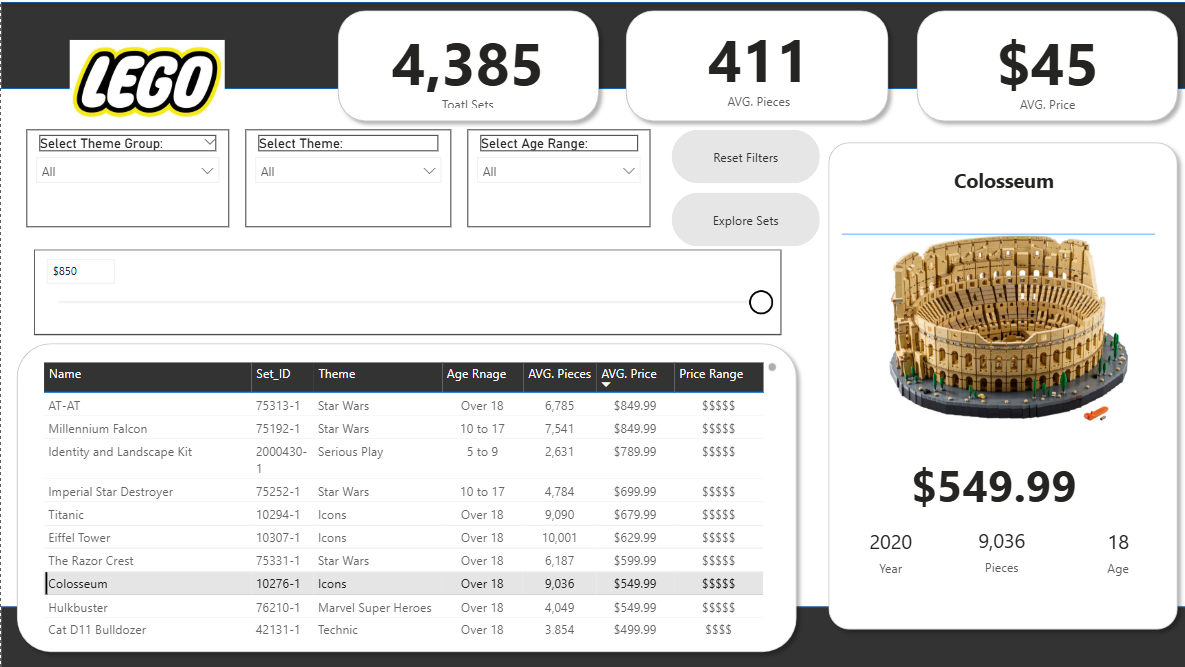

What the dashboard file says about the page in this screenshot:
{"tool":"powerbi","page":{"name":"Page 1","canvas":[1280,720],"ordinal":0},"visuals":[{"type":"shape","box":[0,0,1280,93.8],"z":0},{"type":"shape","box":[0,652.3,1280,67.7],"z":1000},{"type":"shape","box":[354.3,0,299.8,137.8],"z":2000},{"type":"shape","box":[979.7,0,299.8,137.8],"z":3000},{"type":"shape","box":[666.3,0,301.3,137.8],"z":4000},{"type":"card","fields":{"Values":["Measure Table.Toatl Sets"]},"box":[375.5,21.2,255.9,98.4],"z":5000},{"type":"card","fields":{"Values":["Measure Table.AVG. Price"]},"box":[1002.4,18.2,254.4,104.5],"z":6000},{"type":"card","fields":{"Values":["Measure Table.AVG. Pieces"]},"box":[701.1,15.1,233.2,104.5],"z":7000},{"type":"shape","box":[8.1,359.5,859.8,351.4],"z":8000},{"type":"shape","box":[884.1,142.5,395.1,544.1],"z":9000},{"type":"slicer","fields":{"Values":["lego_sets.themeGroup"]},"box":[27.5,137.6,218.6,105.2],"z":10000},{"type":"slicer","fields":{"Values":["lego_sets.Age Rnage"]},"box":[503.6,137.6,197.5,105.2],"z":11000},{"type":"slicer","fields":{"Values":["lego_sets.theme"]},"box":[263.9,137.6,221.8,105.2],"z":12000},{"type":"card","fields":{"Values":["Measure Table.Selected Set"]},"box":[914.9,166.8,335.2,55.1],"z":13000},{"type":"tableEx","fields":{"Values":["lego_sets.imageURL"]},"box":[901.9,221.8,359.5,241.3],"z":14000},{"type":"tableEx","fields":{"Values":["lego_sets.name","lego_sets.set_id","lego_sets.theme","lego_sets.Age Rnage","Measure Table.AVG. Pieces","Measure Table.AVG. Price","lego_sets.Price Range"]},"box":[40.5,383.8,801.5,302.8],"z":15000},{"type":"card","fields":{"Values":["Measure Table.Selected Price"]},"box":[903.2,484.7,336.3,71.1],"z":16000},{"type":"card","fields":{"Values":["Measure Table.Selected Year"]},"box":[901,557.2,119.6,71.2],"z":17000},{"type":"card","fields":{"Values":["Measure Table.Selected Pieces"]},"box":[1020.6,555.7,119.6,71.2],"z":18000},{"type":"card","fields":{"Values":["Measure Table.Selected Age"]},"box":[1149.3,557.2,112.1,71.2],"z":19000},{"type":"slicer","fields":{"Values":["Max Price.Max Price"]},"box":[35.6,267.2,806.4,92.3],"z":20000},{"type":"image","box":[27.3,34.8,260.4,104.5],"z":21000},{"type":"actionButton","box":[723.8,137.6,160.3,58.3],"z":22000},{"type":"actionButton","box":[723.8,205.6,160.3,58.3],"z":23000}]}

Visuals, with their boxes in screenshot pixels (x1, y1, x2, y2), scaled from the page's 1280x720 canvas onto the 1185x667 screenshot:
shape: <bbox>0, 0, 1184, 87</bbox>
shape: <bbox>0, 604, 1184, 666</bbox>
shape: <bbox>328, 0, 606, 128</bbox>
shape: <bbox>907, 0, 1184, 128</bbox>
shape: <bbox>617, 0, 896, 128</bbox>
card - Measure Table.Toatl Sets: <bbox>348, 20, 585, 111</bbox>
card - Measure Table.AVG. Price: <bbox>928, 17, 1164, 114</bbox>
card - Measure Table.AVG. Pieces: <bbox>649, 14, 865, 111</bbox>
shape: <bbox>7, 333, 803, 659</bbox>
shape: <bbox>818, 132, 1184, 636</bbox>
slicer - lego_sets.themeGroup: <bbox>25, 127, 228, 225</bbox>
slicer - lego_sets.Age Rnage: <bbox>466, 127, 649, 225</bbox>
slicer - lego_sets.theme: <bbox>244, 127, 450, 225</bbox>
card - Measure Table.Selected Set: <bbox>847, 155, 1157, 206</bbox>
tableEx - lego_sets.imageURL: <bbox>835, 205, 1168, 429</bbox>
tableEx - lego_sets.name x lego_sets.set_id: <bbox>37, 356, 780, 636</bbox>
card - Measure Table.Selected Price: <bbox>836, 449, 1148, 515</bbox>
card - Measure Table.Selected Year: <bbox>834, 516, 945, 582</bbox>
card - Measure Table.Selected Pieces: <bbox>945, 515, 1056, 581</bbox>
card - Measure Table.Selected Age: <bbox>1064, 516, 1168, 582</bbox>
slicer - Max Price.Max Price: <bbox>33, 248, 780, 333</bbox>
image: <bbox>25, 32, 266, 129</bbox>
actionButton: <bbox>670, 127, 818, 181</bbox>
actionButton: <bbox>670, 190, 818, 244</bbox>
